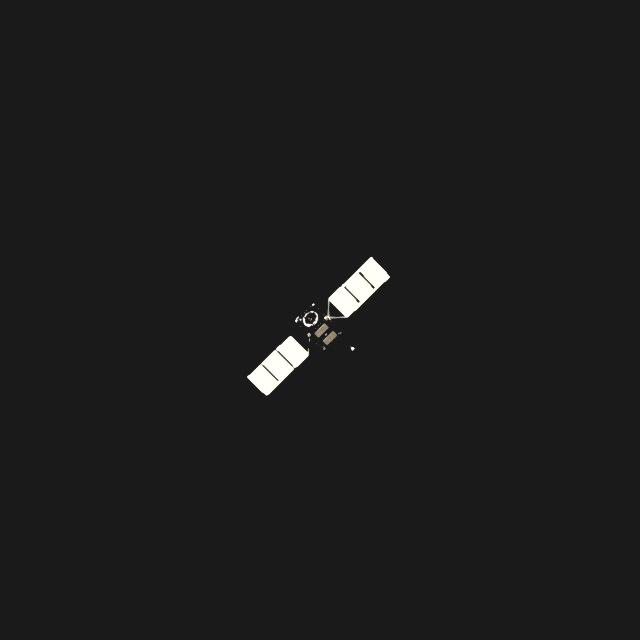medium_debris: (245, 261, 388, 400)
